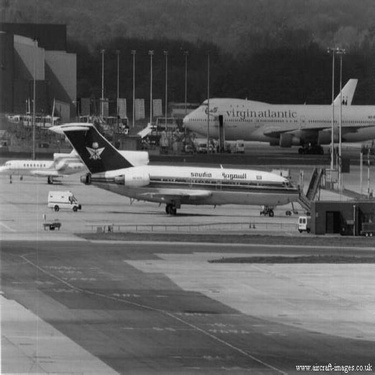airplane: (18, 89, 327, 262), (175, 41, 364, 152)
